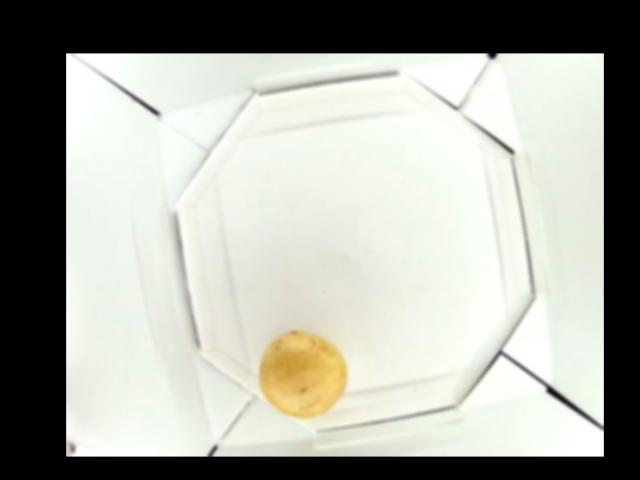Potato: (259, 328, 348, 425)
